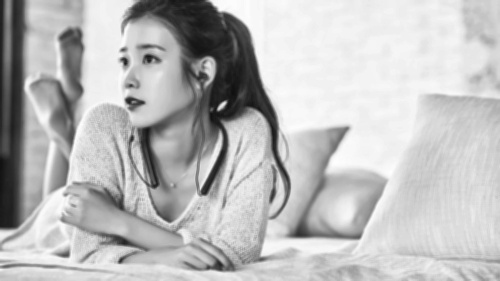earphone: (191, 56, 218, 90)
